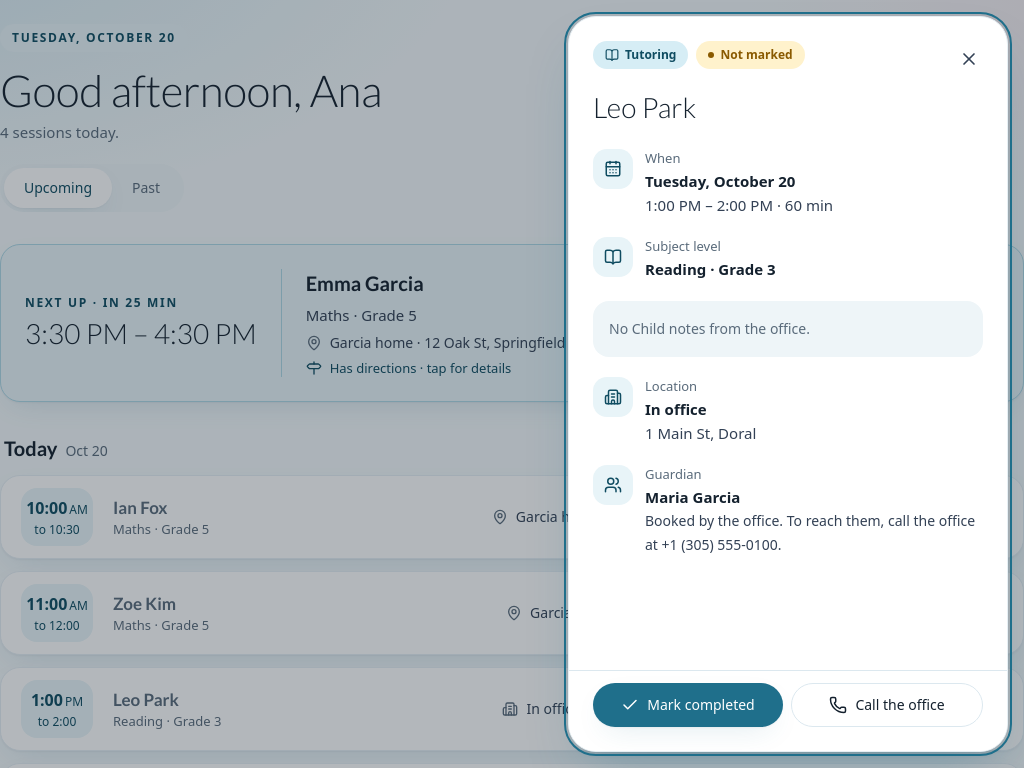
Test case: at 1280 px › Mark completed › shows not found when the refetch after a refusal says it isn't theirs any more
This screenshot has width=1024, height=768.
Step 1. Click the button "Mark completed" → (688, 705), box left=593, top=683, right=783, bottom=727
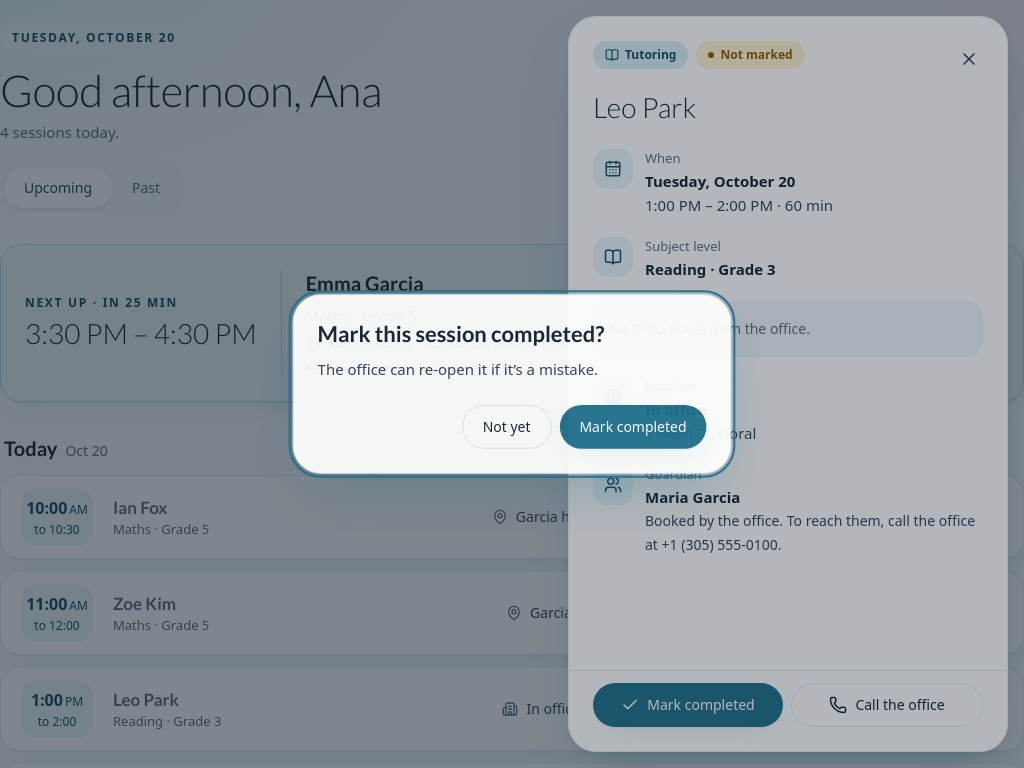
Step 2. Click the button "Mark completed" → (633, 427), box left=560, top=405, right=707, bottom=449
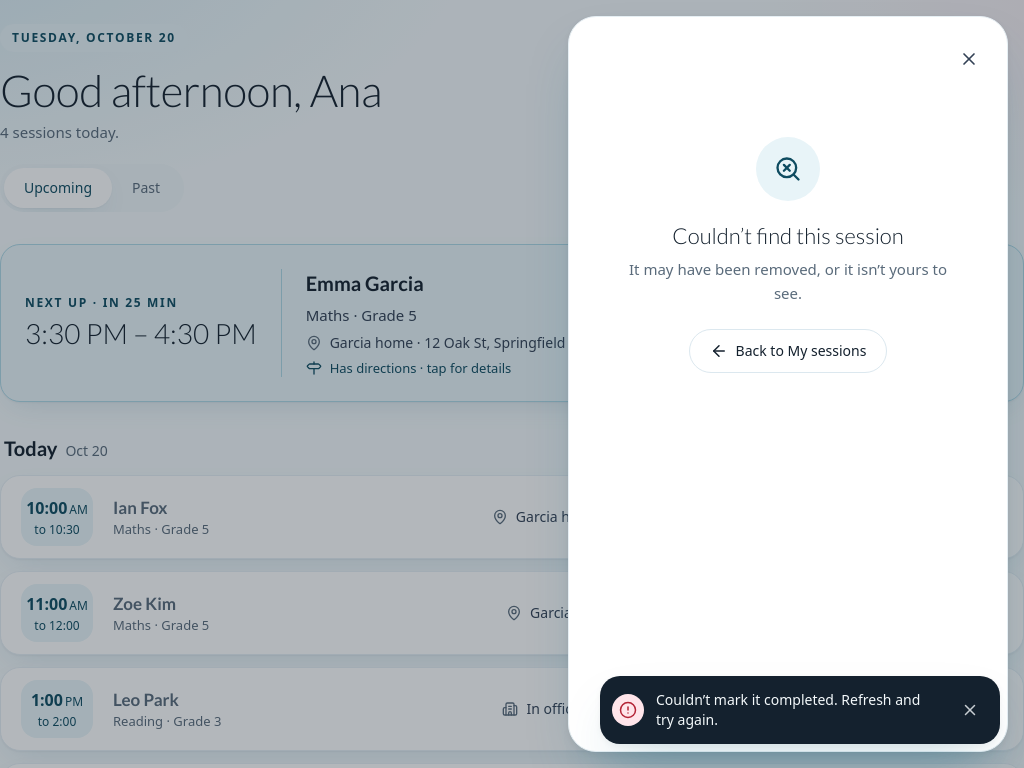
Expected: the heading "Couldn’t find this session" is shown, left=672, top=221, right=904, bottom=251
